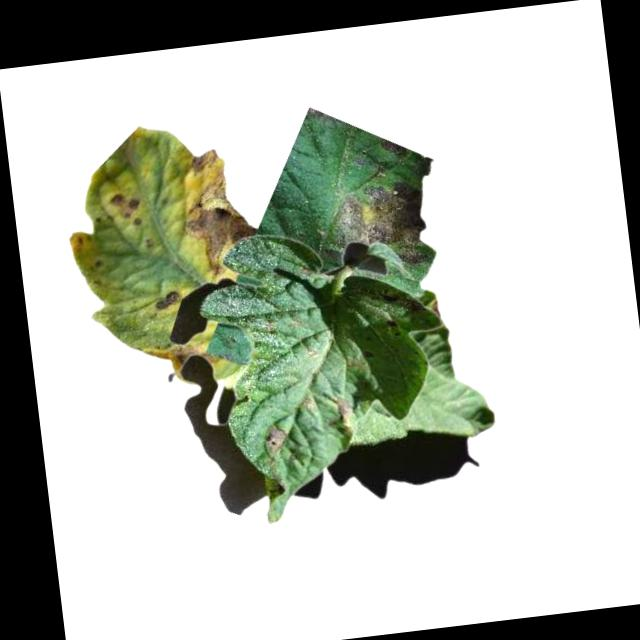Early_blight: (174, 144, 262, 278), (323, 180, 436, 272), (147, 340, 224, 377), (107, 189, 146, 230), (261, 422, 288, 456), (333, 397, 357, 430), (152, 288, 182, 312), (432, 300, 444, 321)
